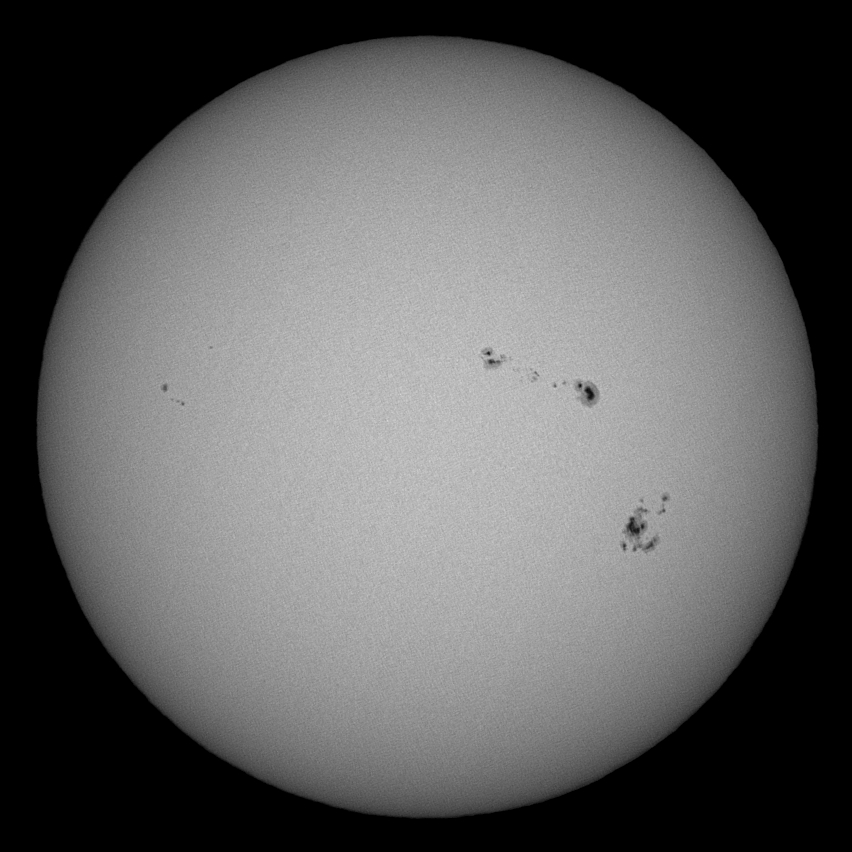sunspot: (479, 346, 605, 409), (618, 491, 671, 555), (158, 380, 190, 408), (206, 342, 212, 348)
